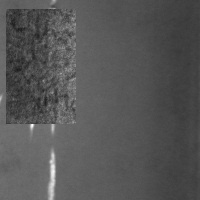crazing: (6, 9, 76, 124)
scratches: (19, 1, 60, 133), (41, 149, 59, 199)
